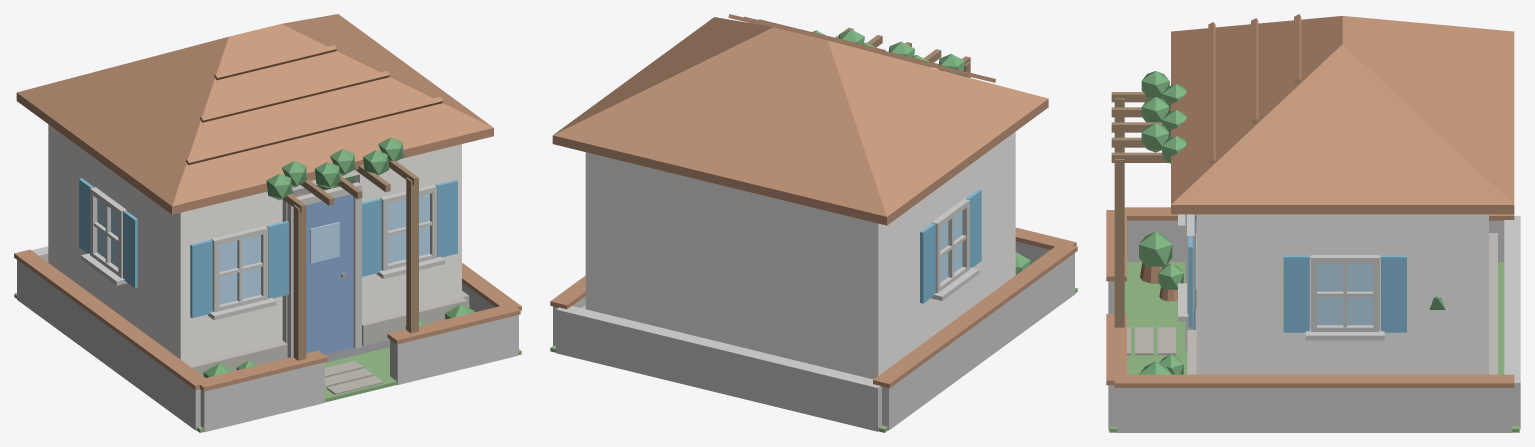
File: casa_mediterranea.glb
3 renders of one model, left to right at view 1: azimuth 30°, elevation 25°; view 2: azimuth 150°, elevation 25°; view 3: azimuth 270°, elevation 25°, orthographic. The views are drawn at different scales.
Parts seen in each view (by area): view 1: Techo, Pared_del_fachada, Base, Valla, Pared_del, Detalle, Techo_Detalle, Techo_porche; view 2: Base, Techo, Valla, Detalle, Techo_Detalle; view 3: Techo, Base, Valla, Detalle, Techo_Detalle, Techo_porche, Pared_del_fachada, Pared_del.
Part boxes in pixels (bbox=[...]): Techo: bbox=[16, 14, 493, 214]; Pared_del_fachada: bbox=[188, 146, 466, 376]; Base: bbox=[14, 124, 521, 432]; Valla: bbox=[14, 246, 521, 432]; Pared_del: bbox=[287, 182, 361, 357]; Detalle: bbox=[79, 137, 403, 287]; Techo_Detalle: bbox=[186, 45, 442, 165]; Techo_porche: bbox=[282, 160, 418, 212]; Base: bbox=[550, 62, 1077, 432]; Techo: bbox=[552, 17, 1048, 225]; Valla: bbox=[550, 227, 1077, 431]; Detalle: bbox=[812, 29, 981, 303]; Techo_Detalle: bbox=[728, 14, 995, 82]; Techo: bbox=[1171, 16, 1514, 214]; Base: bbox=[1109, 98, 1519, 432]; Valla: bbox=[1106, 207, 1520, 432]; Detalle: bbox=[1141, 71, 1406, 332]; Techo_Detalle: bbox=[1208, 14, 1301, 164]; Techo_porche: bbox=[1111, 92, 1170, 162]; Pared_del_fachada: bbox=[1178, 214, 1196, 374]; Pared_del: bbox=[1185, 214, 1195, 350].
Size of the model in its own units: 4.06 by 3.4 by 4.04.
